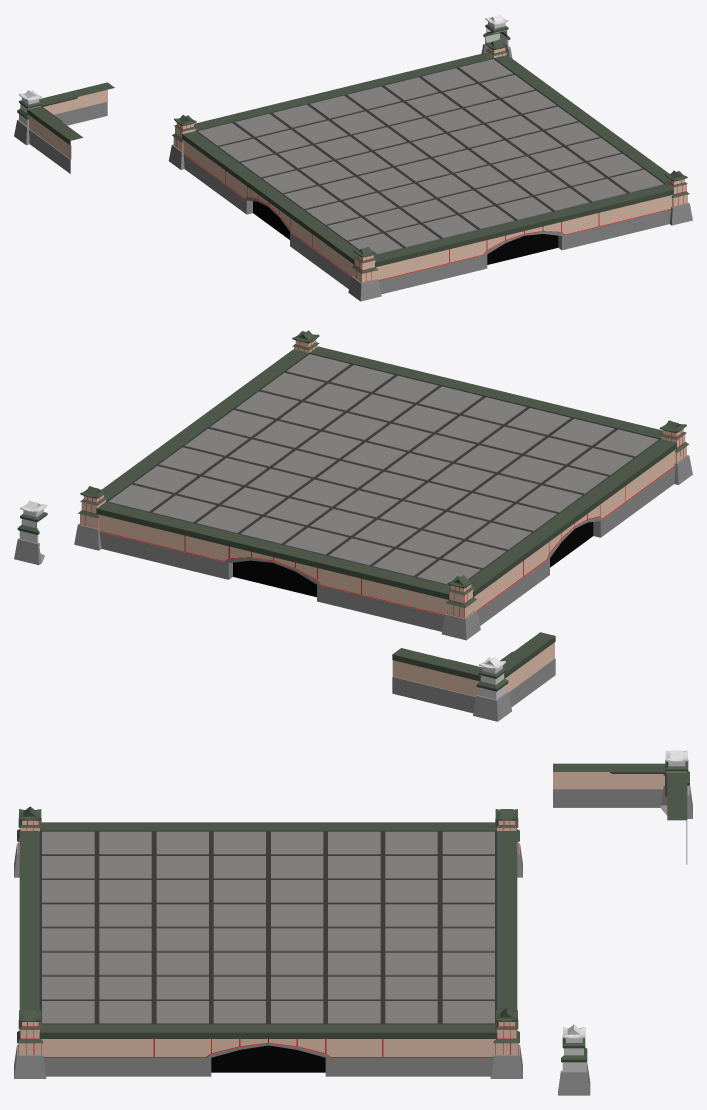
File: Board(Board).fbx
3 renders of one model, top to bottom at view 1: azimuth 30°, elevation 25°; view 2: azimuth 150°, elevation 25°; view 3: azimuth 270°, elevation 25°, orthographic. The views are drawn at different scales.
Parts seen in each view (by area): view 1: Board, Board.001, Board.002; view 2: Board, Board.001, Board.002; view 3: Board, Board.001, Board.002.
Boxes of the visible parts, left/top/right/bottom form: Board: left=168, top=39, right=692, bottom=301; Board.001: left=14, top=82, right=114, bottom=173; Board.002: left=481, top=14, right=512, bottom=58; Board: left=74, top=330, right=692, bottom=640; Board.001: left=392, top=632, right=555, bottom=721; Board.002: left=14, top=500, right=47, bottom=565; Board: left=14, top=806, right=522, bottom=1078; Board.001: left=553, top=750, right=692, bottom=864; Board.002: left=558, top=1024, right=590, bottom=1095.
Bounding box in the file's own units: 7207 × 715 × 7122.
